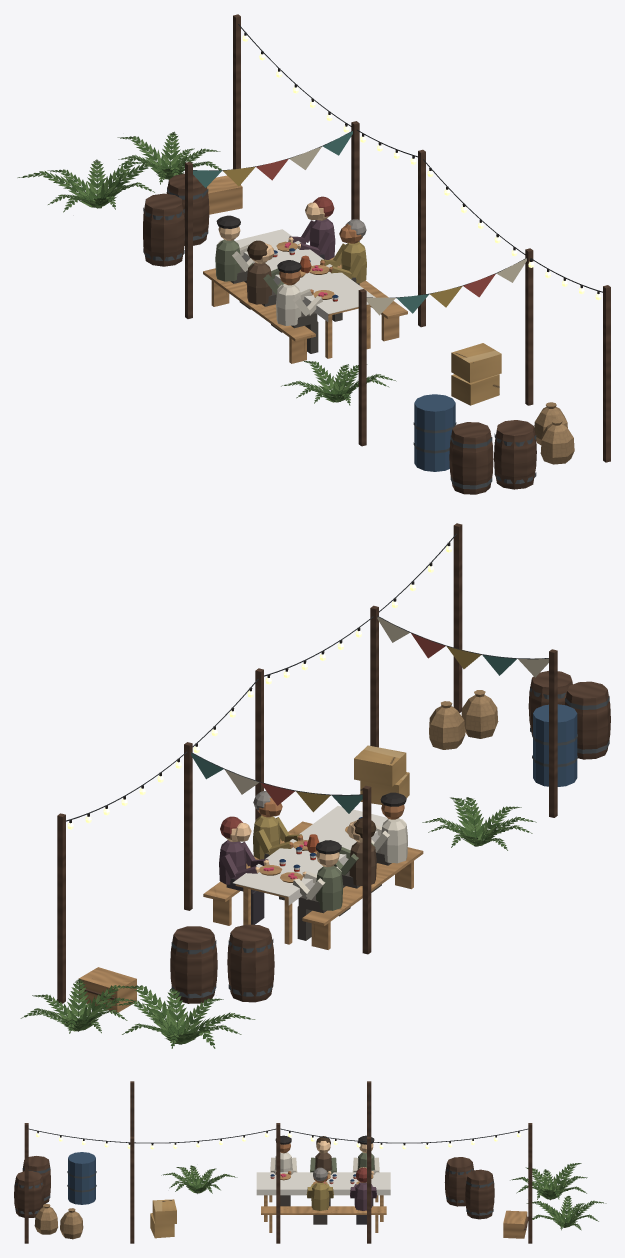
Rendered from props_e.glb.
The picture shows the model from 3 angles, top to bottom: view 1: azimuth 30°, elevation 25°; view 2: azimuth 150°, elevation 25°; view 3: azimuth 270°, elevation 25°; orthographic projection. The views are drawn at different scales.
Parts seen in each view (by area): view 1: props_e_props, props_e_tables, props_e_garlands, props_e_vegetation; view 2: props_e_props, props_e_tables, props_e_garlands, props_e_vegetation; view 3: props_e_props, props_e_tables, props_e_garlands, props_e_vegetation.
Boxes of the visible parts, x1,y1,x2,y2 form: props_e_props: (143, 173, 574, 494); props_e_tables: (203, 196, 407, 363); props_e_garlands: (185, 14, 610, 462); props_e_vegetation: (17, 131, 396, 405); props_e_props: (78, 671, 610, 1012); props_e_tables: (203, 791, 423, 949); props_e_garlands: (57, 523, 557, 1003); props_e_vegetation: (20, 797, 536, 1048); props_e_props: (14, 1152, 528, 1239); props_e_tables: (256, 1135, 390, 1232); props_e_garlands: (24, 1081, 532, 1243); props_e_vegetation: (161, 1163, 606, 1230).
Size of the model in its own units: 3.14 by 2.6 by 11.85.
13 materials, 8 textured.
